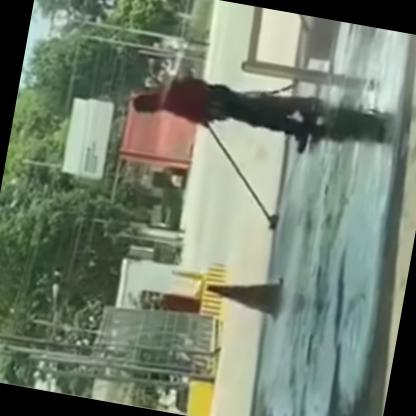Human Body: (122, 52, 324, 158)
